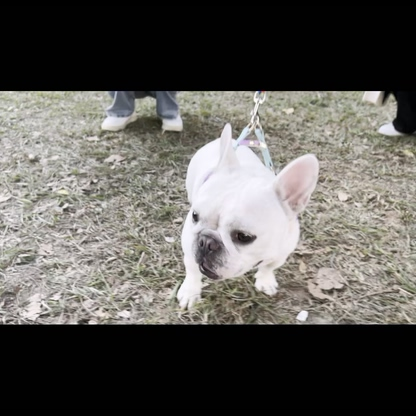bulldog: (172, 119, 321, 309)
